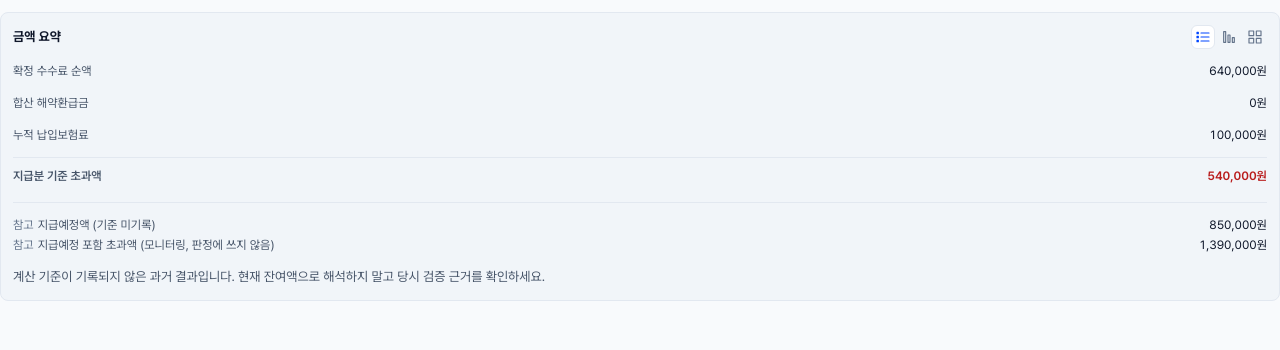
비교형은 현재 금액을 초과액 위의 막대로 비교하고 계산 기준 미기록 예정액은 참고 영역에 분리한다
The image size is (1280, 350).
Click the button named "비교형" at (1229, 37), box left=1217, top=25, right=1241, bottom=49
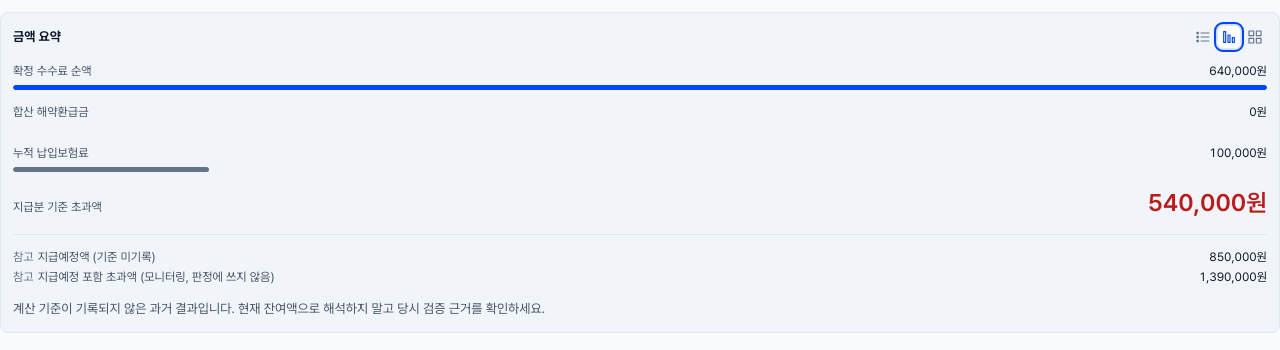
Expected: the text "540,000원" is shown, left=1147, top=188, right=1267, bottom=217
Expected: the button named "비교형" is pressed, left=1217, top=25, right=1241, bottom=49
